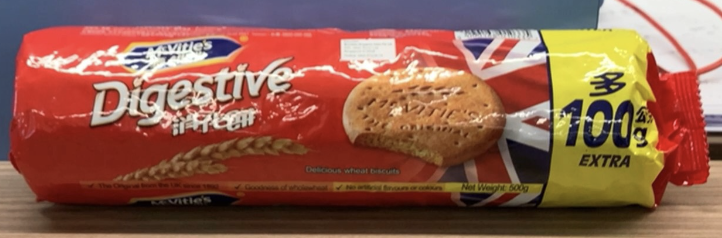cookies_450g: (37, 39, 653, 196)
